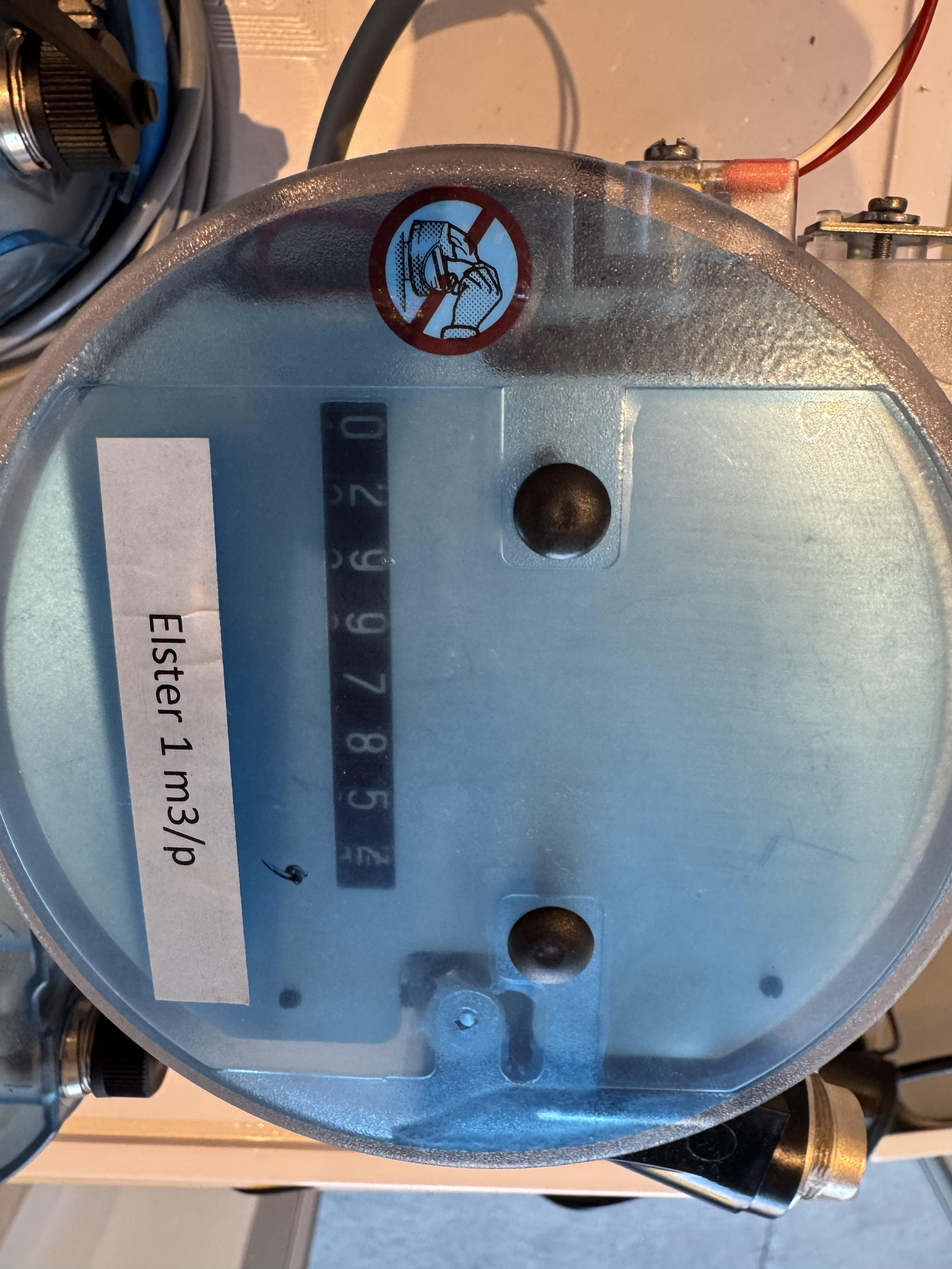analog_dial: (267, 397, 399, 894)
